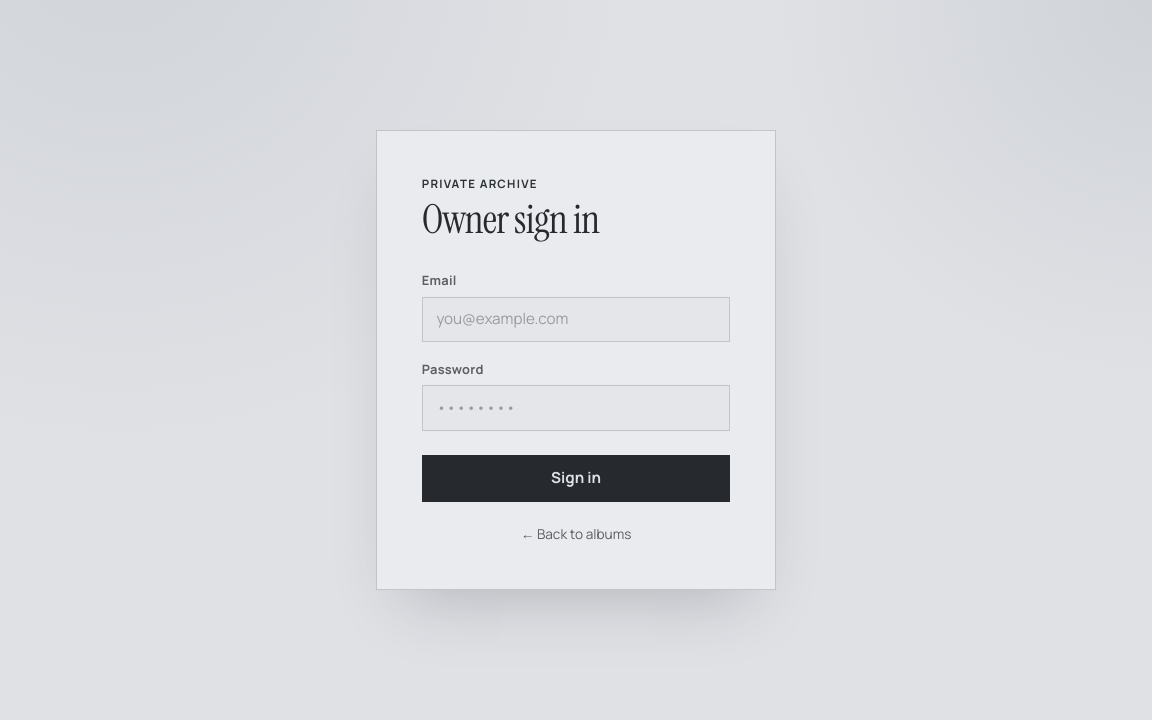
Test: LoginPage › tells the owner when the sign in request throws, and lets them try again
The width and height of the screenshot is (1152, 720).
Step 1. Type "owner@example.com" into the field labelled "Email" → (576,320), box [422, 297, 730, 342]
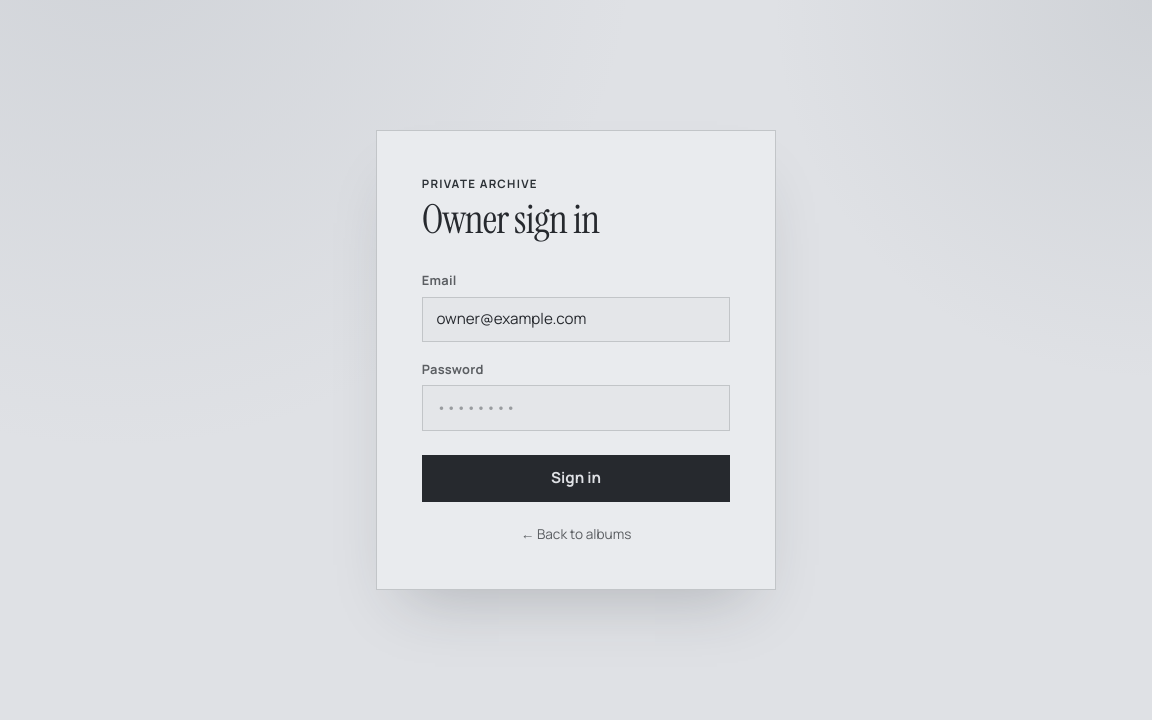
Step 2. Type "secret" into the password field labelled "Password" → (576,408), box [422, 385, 730, 431]
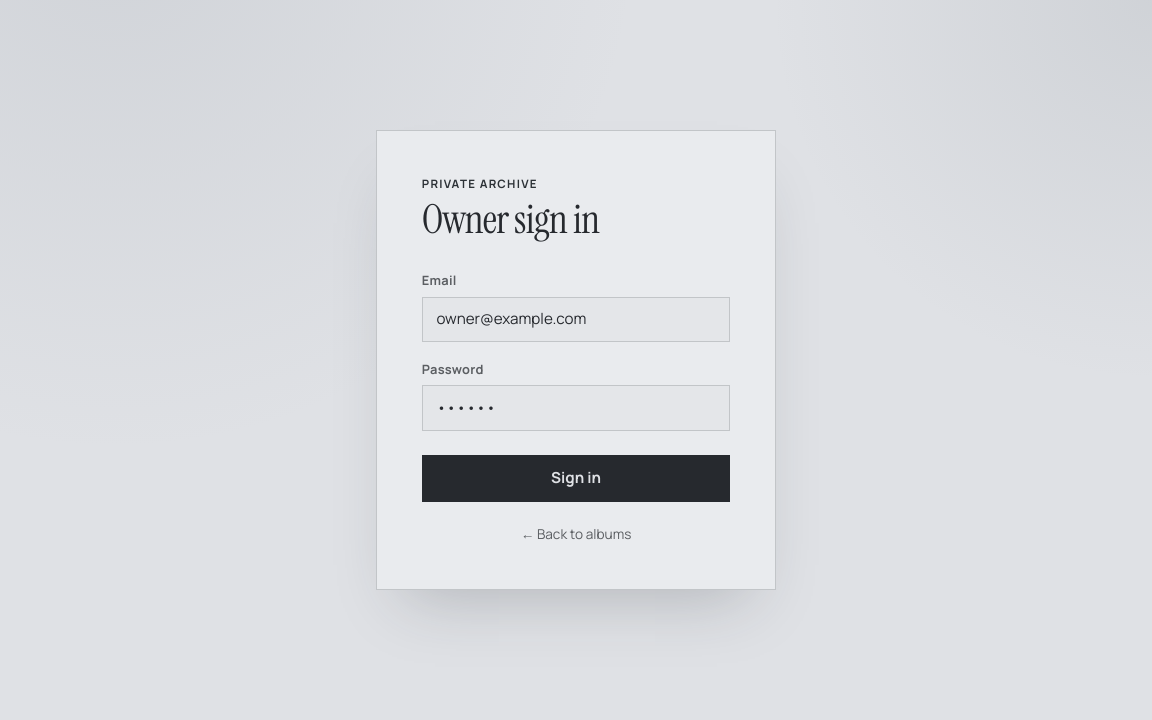
Step 3. Submit the form, box [422, 271, 730, 502]
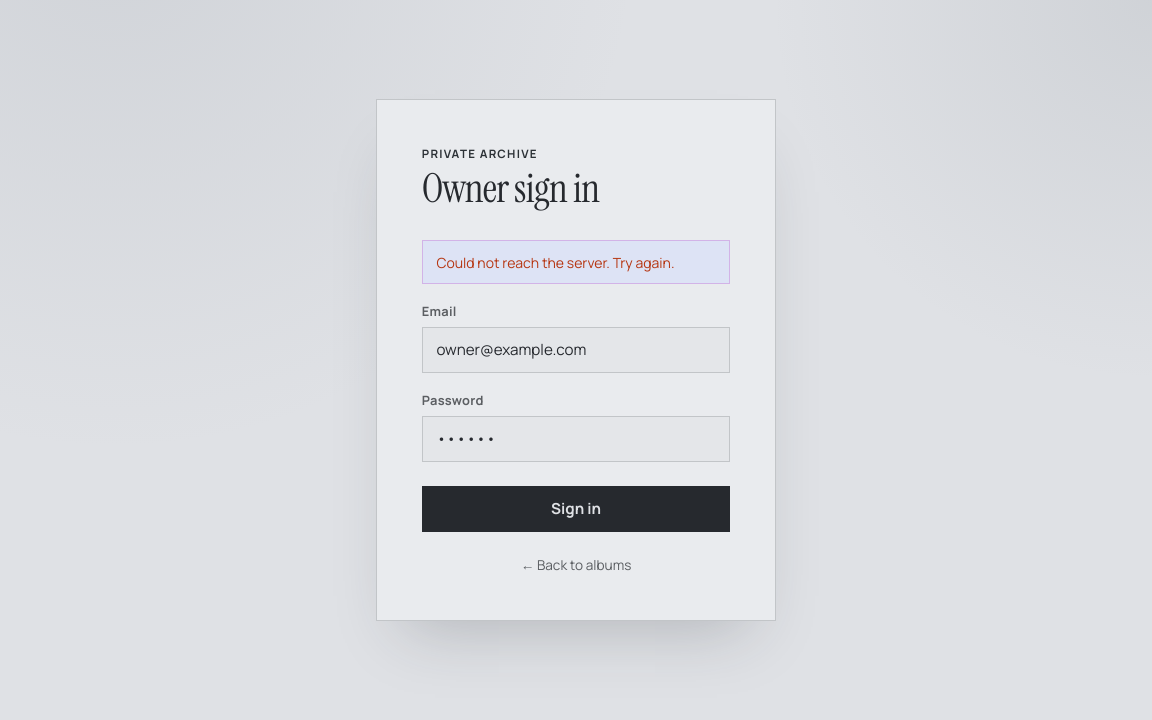
Expected: the button "Sign in" is enabled, [422, 486, 730, 532]
Expected: the text "Could not reach the server. Try again." is shown, [422, 240, 730, 284]
